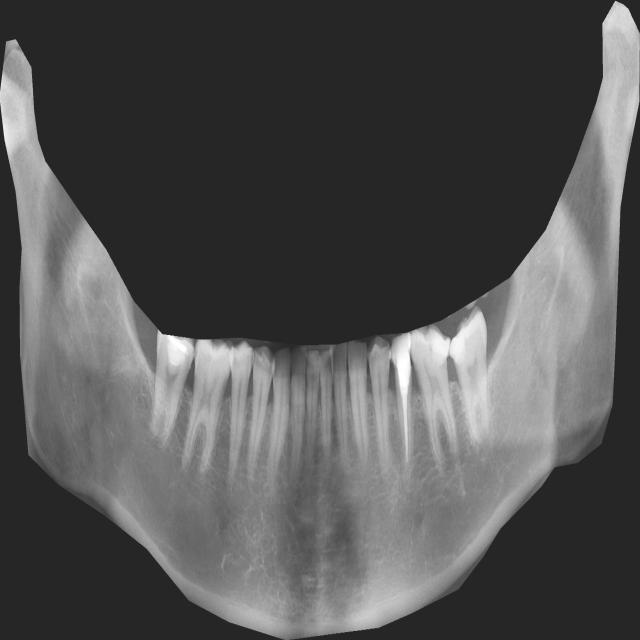mandibulamandibula: (0, 1, 640, 640)
